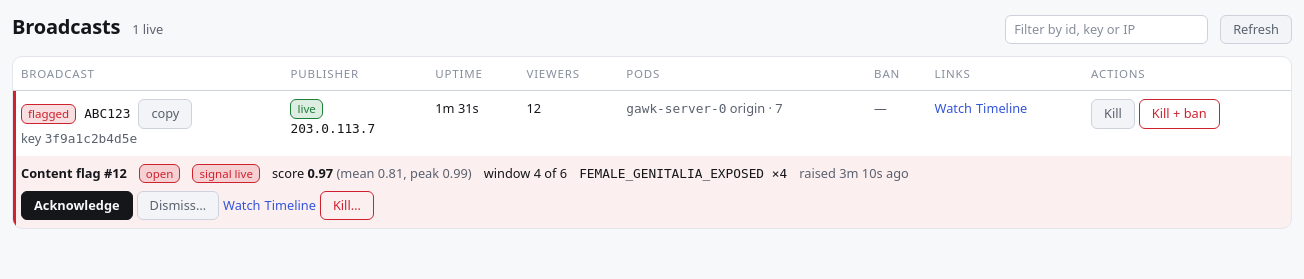
it: the actions › acknowledges in one tap and re-reads the fleet
The width and height of the screenshot is (1304, 279).
Click the button "Acknowledge" at [77, 206], box 21,191 -> 133,220
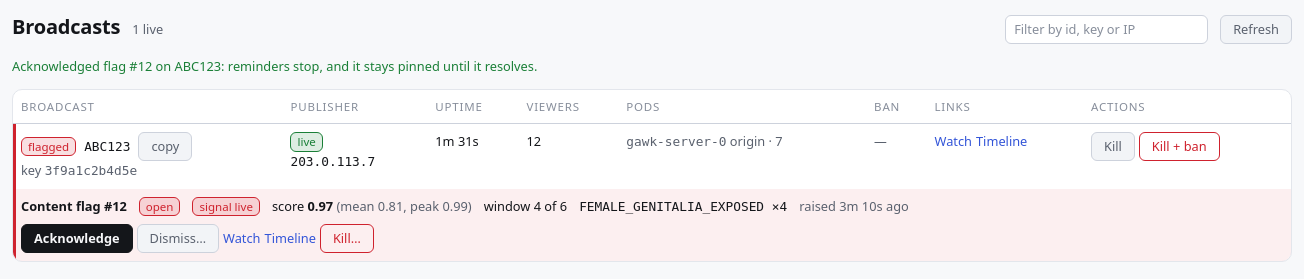
Now the text "Acknowledged flag #12 on ABC123" is shown, box 12,57 -> 537,75
